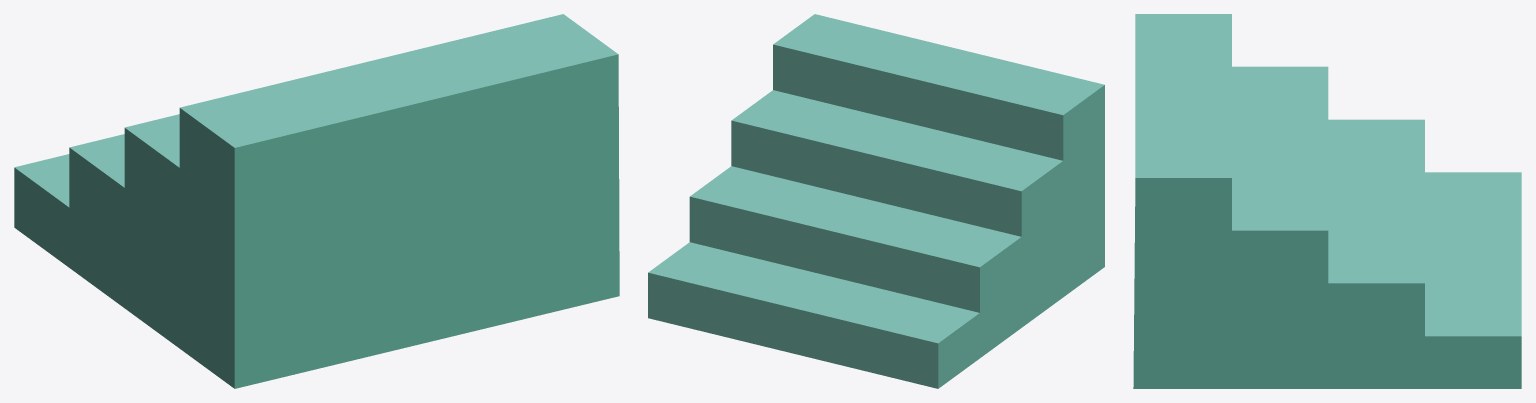
Rendered from squidgame_props_platform_stair1.fbx.
3 views of the same model, side by side, from view 1: azimuth 30°, elevation 25°; view 2: azimuth 150°, elevation 25°; view 3: azimuth 270°, elevation 25° (orthographic). The views are drawn at different scales.
Visible parts, largest first — view 1: squidgame_props_platform_stair1; view 2: squidgame_props_platform_stair1; view 3: squidgame_props_platform_stair1.
Boxes of the visible parts, x1,y1,x2,y2 form: squidgame_props_platform_stair1: (14,14,619,388); squidgame_props_platform_stair1: (648,14,1104,388); squidgame_props_platform_stair1: (1133,14,1521,388).
Size of the model in its own units: 1.5 by 0.9 by 1.5.
